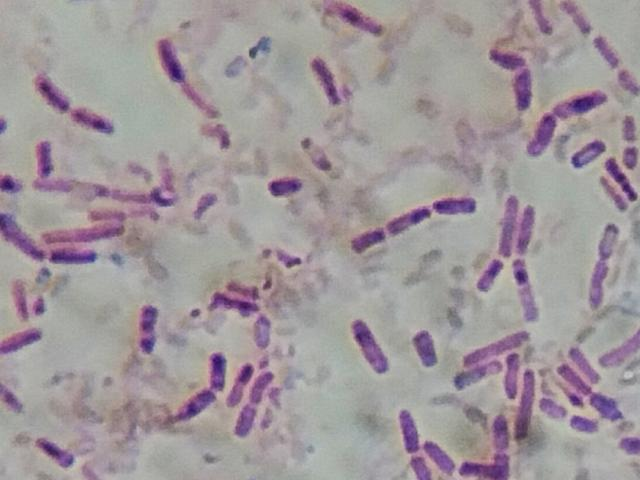E. coli: (347, 319, 392, 373), (2, 214, 44, 265), (459, 329, 530, 357), (512, 256, 539, 320), (330, 0, 384, 31), (72, 105, 121, 138), (383, 199, 432, 232), (44, 221, 120, 242), (2, 326, 48, 360), (555, 89, 607, 119), (601, 330, 640, 369), (558, 0, 599, 37), (28, 176, 100, 197), (435, 191, 487, 219), (609, 147, 637, 198), (139, 301, 163, 358), (498, 194, 519, 258), (313, 54, 340, 103), (155, 39, 185, 82), (416, 329, 444, 374), (39, 72, 68, 114), (528, 112, 554, 158), (459, 368, 503, 395), (35, 436, 72, 468), (587, 32, 618, 70), (230, 358, 253, 409), (472, 255, 504, 291), (588, 257, 608, 313), (397, 406, 420, 447), (570, 347, 596, 383), (598, 220, 625, 254), (32, 136, 56, 174), (347, 226, 383, 251), (466, 459, 511, 479), (598, 178, 623, 214), (529, 0, 552, 39), (559, 364, 586, 397), (570, 138, 604, 164), (517, 66, 538, 108), (214, 286, 249, 311), (180, 384, 205, 418), (518, 199, 536, 246), (268, 175, 303, 199), (253, 362, 275, 400), (424, 439, 450, 471), (254, 312, 274, 353), (13, 282, 34, 321), (520, 368, 531, 442), (0, 381, 21, 418), (50, 244, 86, 265), (206, 350, 224, 391), (489, 42, 516, 67), (238, 399, 256, 434), (495, 414, 513, 447), (405, 458, 431, 480), (570, 417, 596, 439), (619, 70, 639, 97), (497, 447, 512, 480), (86, 208, 121, 222), (624, 115, 640, 145), (506, 351, 517, 392), (544, 396, 561, 420)
